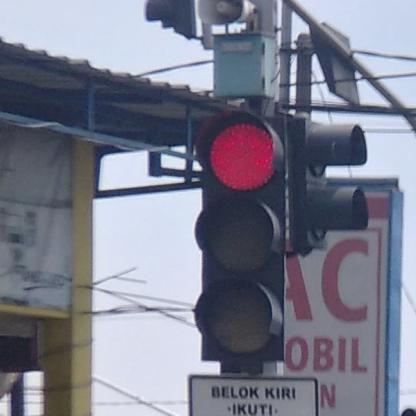red: (196, 114, 286, 358)
